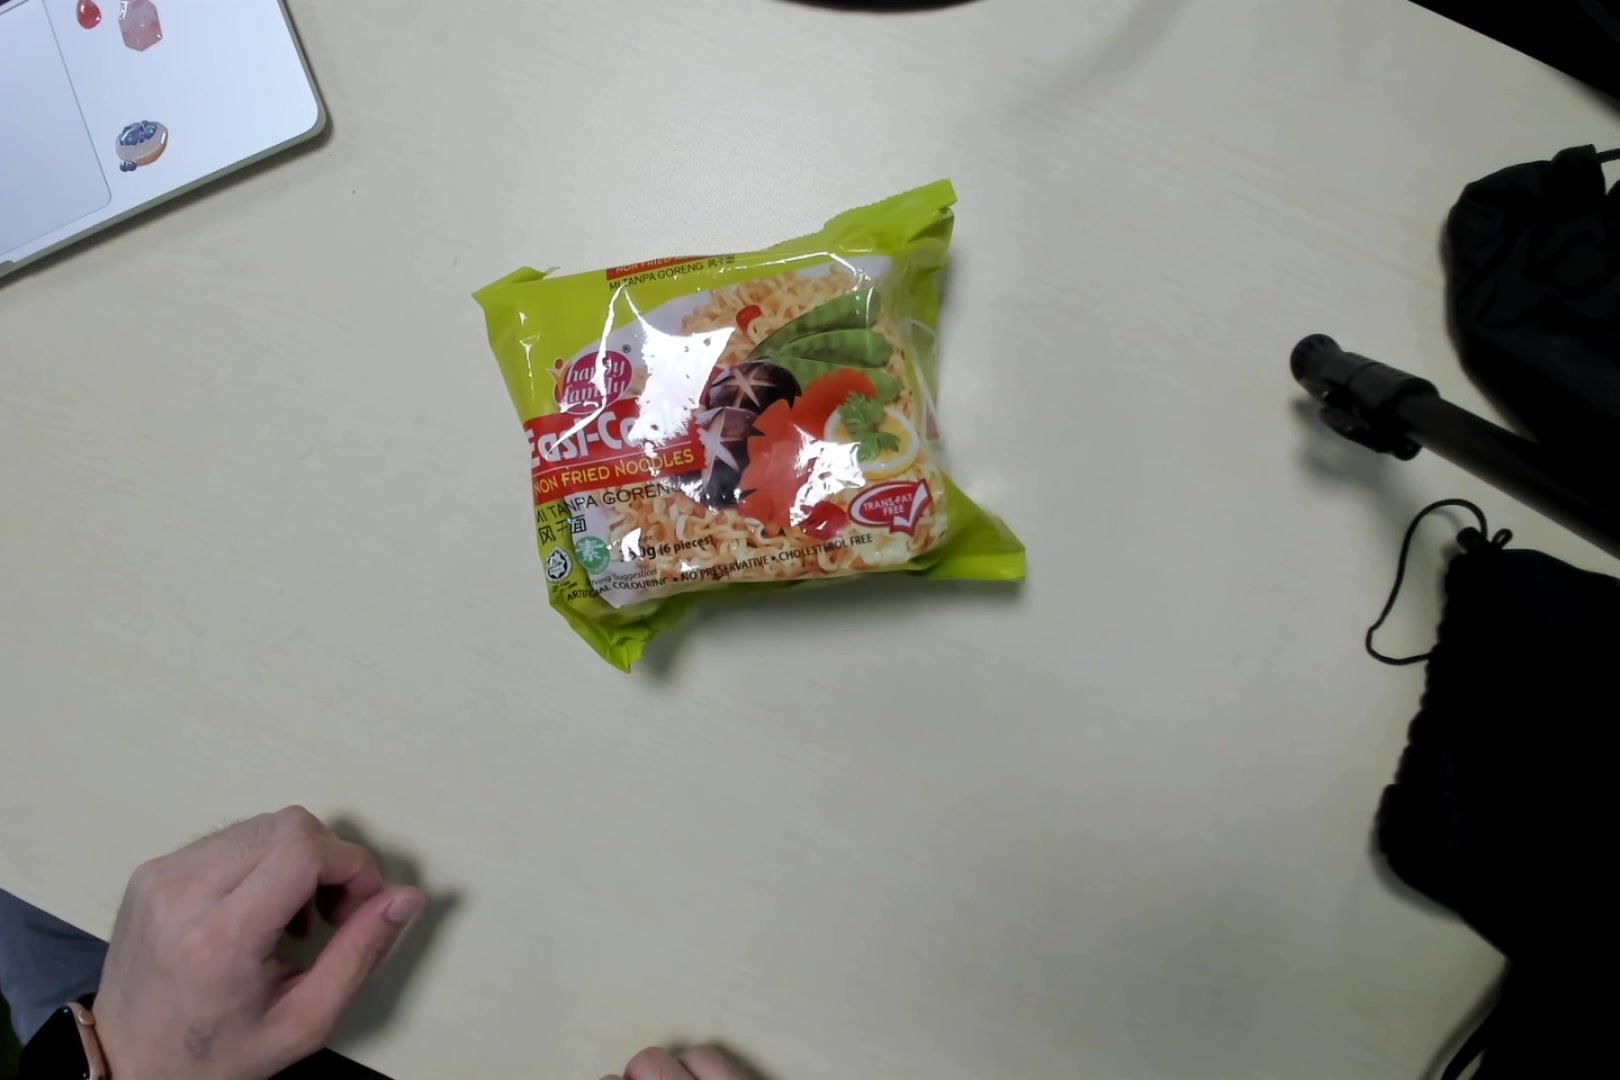OtherNoodles_300-399g_Halal_NonHealthy: (495, 211, 1037, 674)
